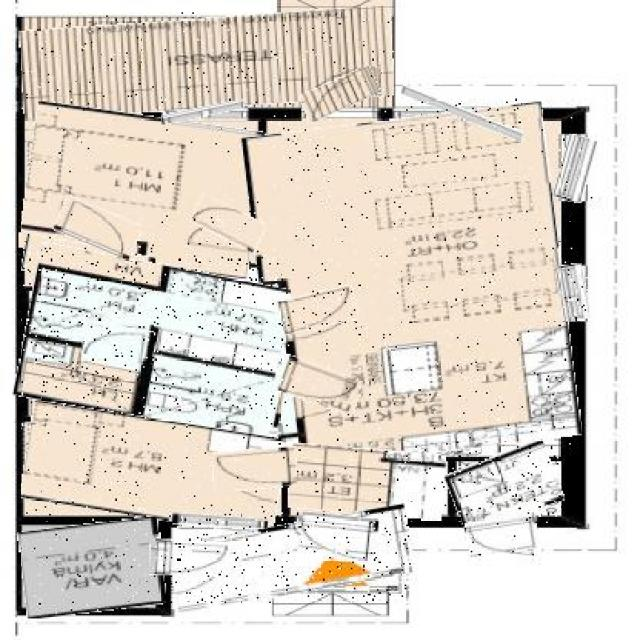door: (55, 203, 140, 254), (276, 362, 362, 411), (298, 514, 378, 561), (276, 289, 358, 331), (214, 448, 297, 489), (302, 71, 378, 115), (192, 202, 266, 246), (151, 538, 234, 577), (466, 514, 539, 555), (84, 326, 156, 363)
window: (398, 97, 524, 131), (555, 135, 594, 203), (558, 263, 588, 322), (160, 103, 245, 122), (172, 514, 268, 528)
zone: (252, 110, 572, 462), (18, 254, 284, 431), (23, 110, 263, 272), (20, 12, 394, 114), (23, 410, 285, 528), (169, 512, 414, 603), (20, 520, 165, 614), (289, 448, 446, 518), (163, 346, 289, 423), (449, 448, 562, 528), (21, 240, 156, 289)
